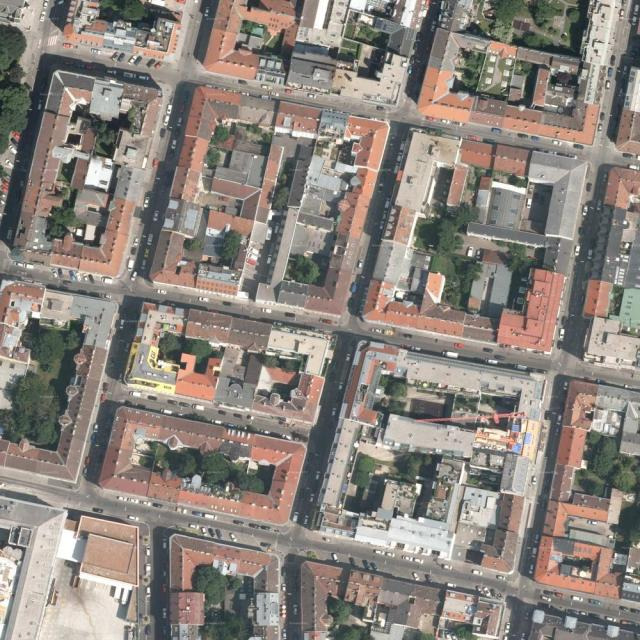building: (5, 56, 169, 282), (257, 102, 396, 322), (362, 129, 495, 337), (355, 341, 550, 442), (105, 404, 303, 500), (301, 333, 406, 511), (172, 336, 329, 428), (256, 143, 332, 310), (168, 534, 282, 640), (180, 303, 331, 376), (101, 463, 272, 523), (0, 496, 67, 640), (169, 83, 243, 208), (379, 406, 542, 461), (318, 501, 457, 560), (451, 473, 529, 574), (238, 140, 286, 294), (416, 27, 486, 127), (532, 533, 629, 601), (517, 151, 588, 241), (123, 300, 189, 395), (496, 264, 566, 353), (393, 128, 461, 219), (448, 30, 582, 76), (70, 514, 149, 589), (502, 92, 600, 145), (330, 45, 410, 105), (236, 94, 322, 141), (529, 607, 640, 640), (148, 228, 204, 289), (251, 135, 288, 224), (262, 450, 304, 524), (97, 447, 156, 498), (542, 500, 608, 545), (286, 41, 340, 95), (340, 116, 391, 171), (601, 208, 637, 285), (424, 456, 465, 523), (296, 0, 349, 50), (0, 322, 30, 408), (468, 261, 512, 319), (465, 221, 548, 250), (290, 212, 338, 261), (0, 280, 47, 330), (484, 181, 528, 231), (372, 237, 415, 287), (532, 67, 578, 113), (616, 66, 640, 153), (160, 195, 206, 240), (564, 513, 619, 549), (589, 205, 615, 281), (561, 378, 598, 430), (131, 301, 171, 348), (381, 476, 423, 518), (162, 198, 204, 239), (347, 0, 395, 32), (194, 263, 242, 295), (555, 424, 589, 468), (205, 209, 255, 238), (38, 290, 75, 329), (384, 204, 419, 245), (491, 143, 531, 178), (542, 235, 576, 276), (500, 453, 531, 497), (582, 278, 614, 320), (443, 162, 470, 209), (210, 177, 260, 202), (470, 96, 507, 128), (385, 23, 418, 58), (624, 216, 640, 288), (461, 313, 499, 342), (624, 222, 640, 288), (550, 463, 577, 502), (458, 140, 494, 169), (621, 548, 640, 602), (472, 175, 493, 223), (394, 206, 419, 245), (469, 447, 506, 472), (256, 56, 286, 85), (318, 108, 349, 136), (571, 491, 611, 511), (349, 405, 382, 429), (532, 67, 550, 107), (213, 166, 249, 185), (606, 488, 624, 526), (228, 148, 254, 174), (435, 0, 457, 30), (239, 188, 259, 219), (246, 155, 265, 187), (317, 174, 349, 192), (231, 244, 250, 272), (125, 588, 138, 622), (482, 248, 506, 264)
dryland: (39, 559, 138, 640)
greenland: (479, 0, 587, 54), (163, 446, 274, 494), (415, 194, 490, 264), (419, 247, 484, 313), (0, 24, 30, 153), (35, 188, 95, 247), (187, 562, 229, 609), (175, 331, 217, 374), (281, 250, 325, 291), (585, 434, 623, 481), (453, 48, 485, 94), (393, 452, 438, 482), (504, 242, 536, 278), (436, 218, 466, 256), (217, 228, 245, 268), (350, 453, 378, 491), (94, 121, 118, 158), (156, 332, 185, 362), (381, 375, 411, 402), (261, 354, 306, 372), (328, 598, 352, 625), (387, 399, 407, 417)
metalled_road: (0, 463, 289, 565), (124, 392, 312, 441), (0, 0, 73, 89), (399, 0, 445, 102), (144, 526, 180, 639), (78, 397, 122, 483), (102, 293, 144, 381), (103, 378, 163, 410), (0, 240, 14, 272)
